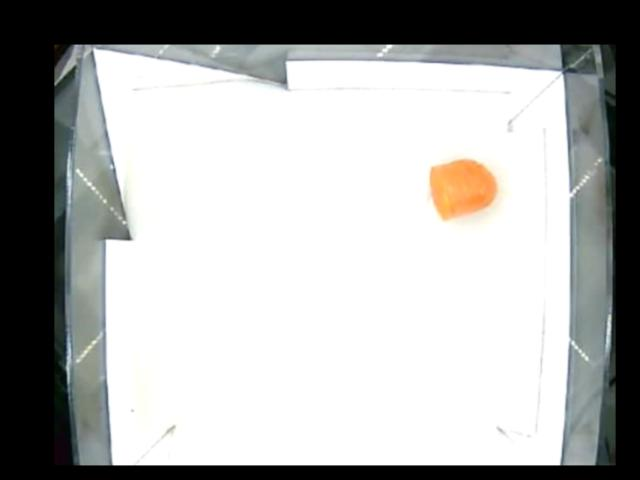Carrot: (427, 158, 497, 218)
